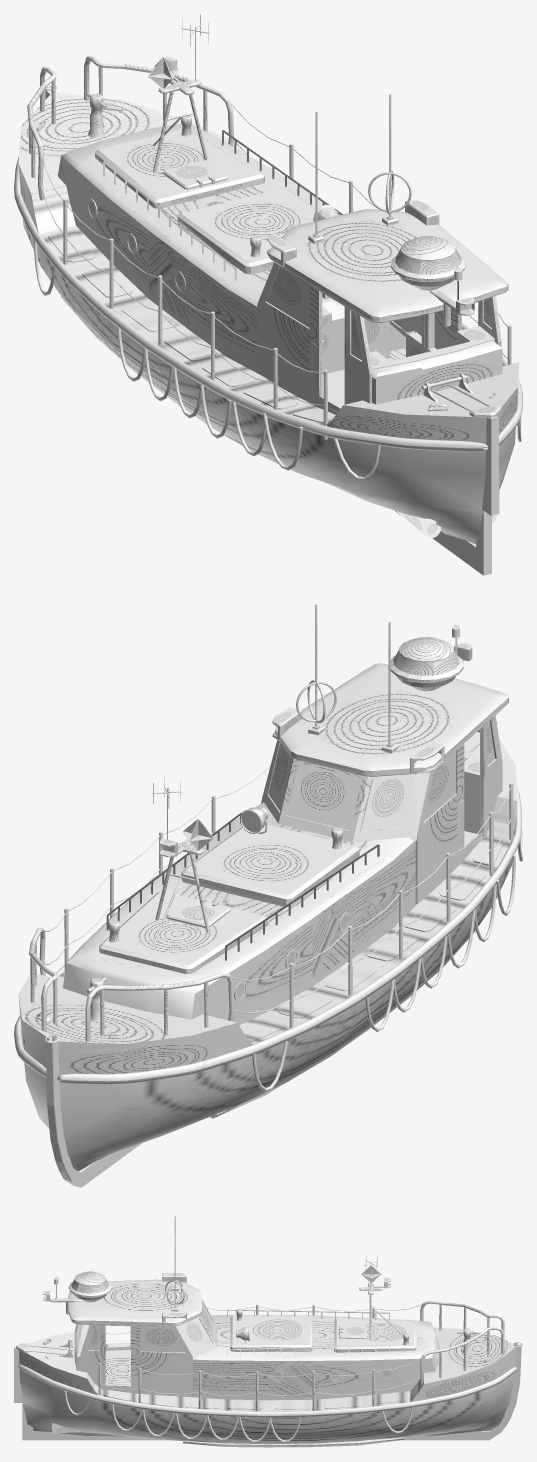
File: boat.obj
3 views of the same model, one above another, from view 1: azimuth 30°, elevation 25°; view 2: azimuth 150°, elevation 25°; view 3: azimuth 270°, elevation 25° (orthographic). The views are drawn at different scales.
Size of the model in its own units: 14.68 by 20.48 by 44.06.
Materials: 1 (1 with a texture image).
